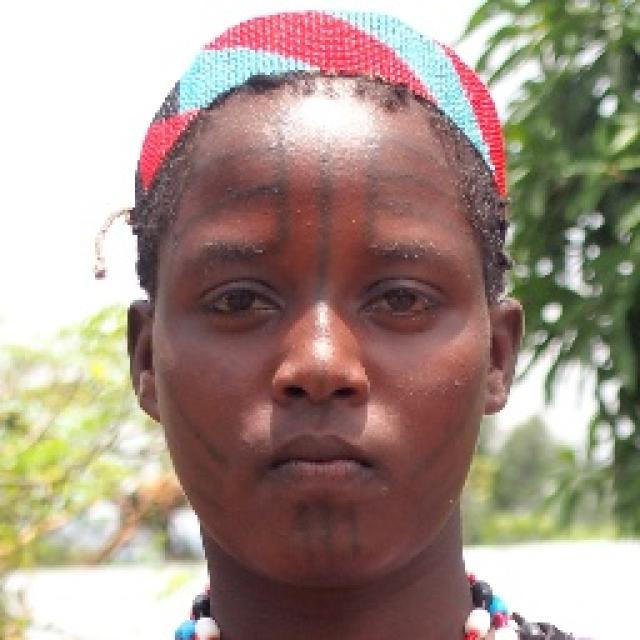earlobe: (481, 297, 524, 415), (125, 300, 163, 422)
